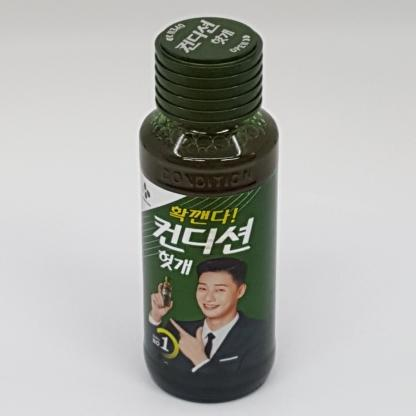CJ-----100ML: (139, 17, 279, 403)
